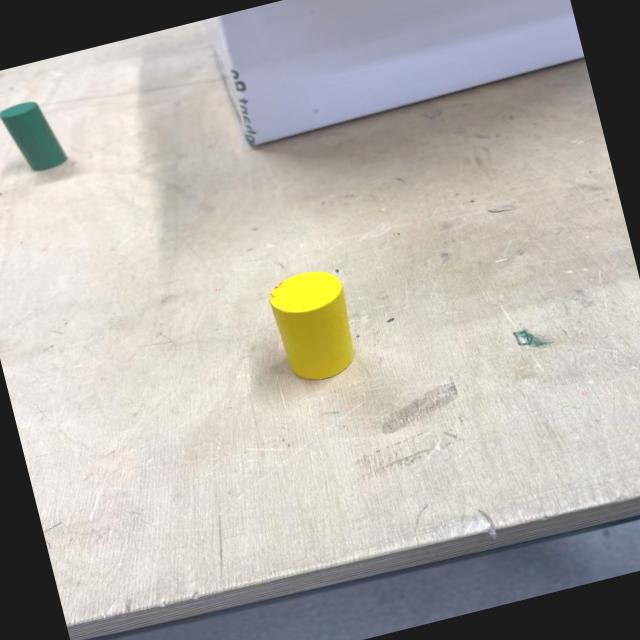yellow_cylinder: (263, 263, 363, 388)
